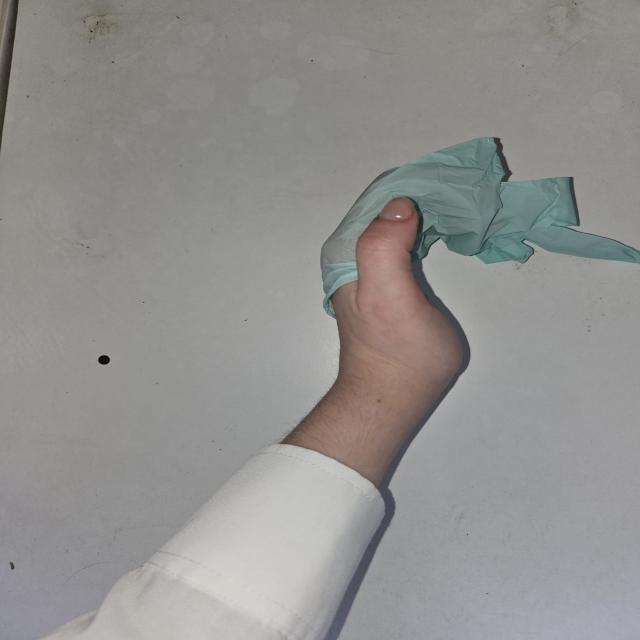glove_partial: (320, 138, 639, 388)
